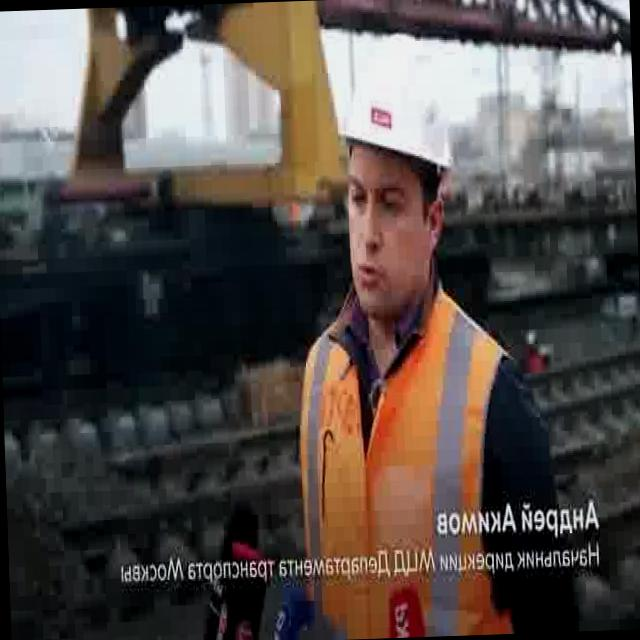helmet: (334, 39, 452, 177)
vest: (288, 265, 522, 640)
